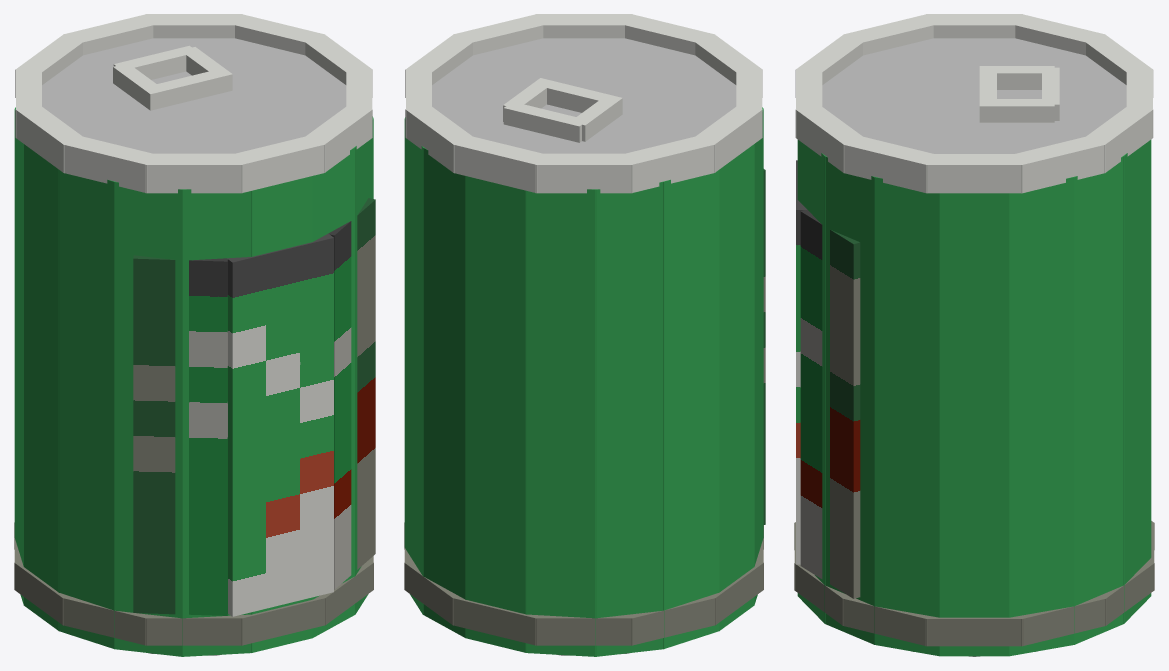
File: CMU3DCMDrinkCanMountainWindDrinksExtraCloud.glb
3 renders of one model, left to right at view 1: azimuth 30°, elevation 25°; view 2: azimuth 150°, elevation 25°; view 3: azimuth 270°, elevation 25°, orthographic.
Parts seen in each view (by area): view 1: source front label tangent 1, source front label tangent 0, hollow printed aluminium body 09, unbroken recessed aluminium lid, hollow printed aluminium body 08, hollow printed aluminium body 10, source front label tangent 2, hollow printed aluminium body 11, hollow printed aluminium body 13, hollow printed aluminium body 12, hollow printed aluminium body 07, raised upper seam 08 (+21 smaller); view 2: hollow printed aluminium body 05, hollow printed aluminium body 06, hollow printed aluminium body 04, hollow printed aluminium body 07, unbroken recessed aluminium lid, hollow printed aluminium body 03, hollow printed aluminium body 08, hollow printed aluminium body 02, hollow printed aluminium body 09, raised upper seam 04, raised upper seam 05, raised upper seam 03 (+19 smaller); view 3: hollow printed aluminium body 00, hollow printed aluminium body 01, hollow printed aluminium body 15, unbroken recessed aluminium lid, hollow printed aluminium body 02, source front label tangent 2, hollow printed aluminium body 03, hollow printed aluminium body 14, raised upper seam 00, hollow printed aluminium body 13, raised upper seam 01, raised upper seam 11 (+18 smaller).
Boxes of the visible parts, x1,y1,x2,y2 form: source front label tangent 1: [227, 233, 333, 616]; source front label tangent 0: [133, 255, 227, 615]; hollow printed aluminium body 09: [58, 169, 115, 648]; unbroken recessed aluminium lid: [42, 38, 346, 153]; hollow printed aluminium body 08: [24, 144, 59, 630]; hollow printed aluminium body 10: [114, 182, 182, 656]; source front label tangent 2: [328, 198, 375, 589]; hollow printed aluminium body 11: [182, 189, 252, 656]; hollow printed aluminium body 13: [312, 147, 355, 637]; hollow printed aluminium body 12: [251, 176, 313, 652]; hollow printed aluminium body 07: [14, 109, 23, 605]; raised upper seam 08: [145, 153, 242, 193]; hollow printed aluminium body 05: [525, 189, 596, 656]; hollow printed aluminium body 06: [595, 181, 664, 656]; hollow printed aluminium body 04: [465, 176, 526, 652]; hollow printed aluminium body 07: [663, 169, 719, 649]; unbroken recessed aluminium lid: [432, 38, 736, 153]; hollow printed aluminium body 03: [423, 147, 465, 637]; hollow printed aluminium body 08: [719, 144, 754, 630]; hollow printed aluminium body 02: [404, 119, 423, 614]; hollow printed aluminium body 09: [754, 108, 763, 603]; raised upper seam 04: [535, 153, 632, 193]; raised upper seam 05: [619, 135, 715, 193]; raised upper seam 03: [453, 136, 549, 193]; hollow printed aluminium body 00: [939, 193, 1009, 656]; hollow printed aluminium body 01: [1009, 176, 1074, 656]; hollow printed aluminium body 15: [874, 177, 939, 656]; unbroken recessed aluminium lid: [822, 38, 1126, 153]; hollow printed aluminium body 02: [1074, 156, 1124, 644]; source front label tangent 2: [800, 210, 860, 598]; hollow printed aluminium body 03: [1123, 139, 1151, 623]; hollow printed aluminium body 14: [824, 156, 874, 644]; raised upper seam 00: [926, 154, 1022, 193]; hollow printed aluminium body 13: [797, 139, 825, 623]; raised upper seam 01: [1011, 135, 1105, 193]; raised upper seam 11: [843, 135, 937, 193].
Size of what is drawn, in the model's own units: 0.2876 by 0.4425 by 0.2876.
8 materials, 3 textured.
